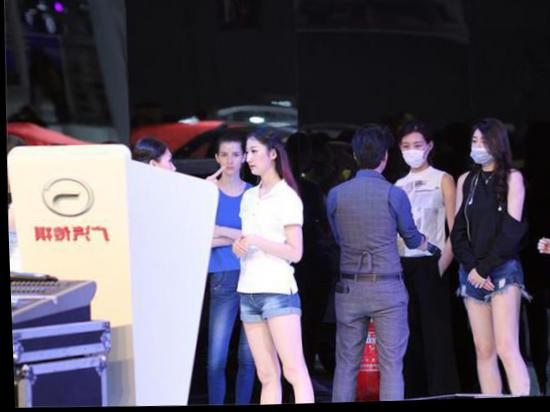NONE: (244, 146, 272, 177), (154, 157, 178, 185), (217, 150, 240, 176)
OK: (401, 144, 427, 171)
WRONG: (466, 136, 500, 169)
